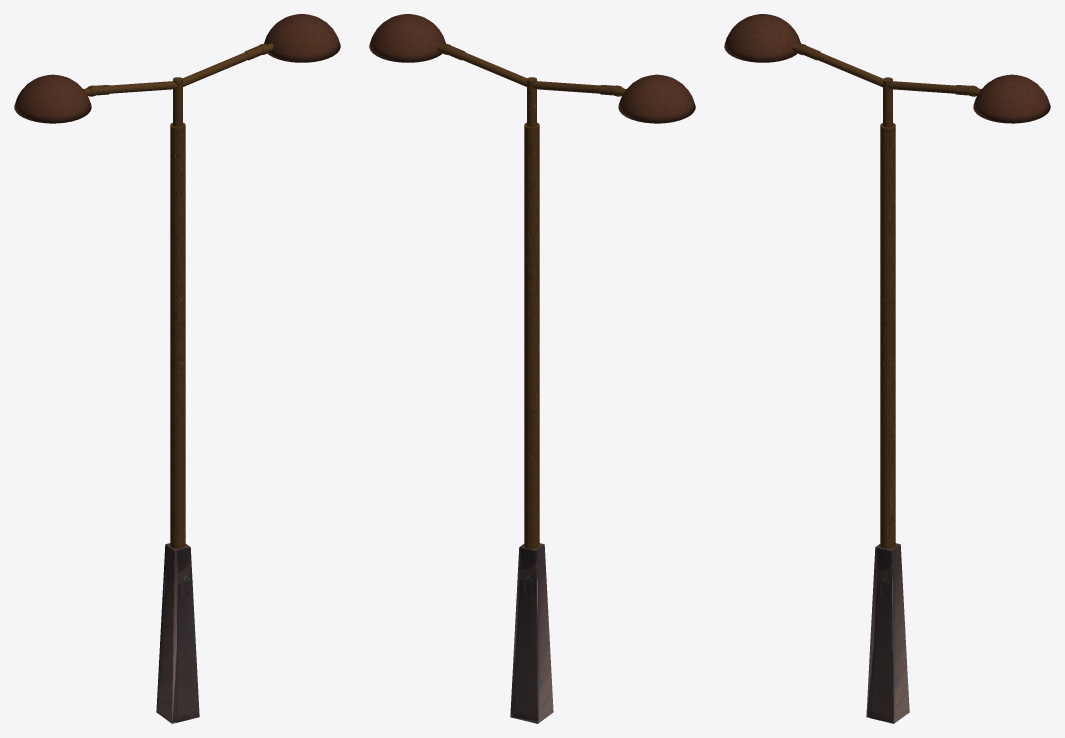
File: Farola_1.fbx
The picture shows the model from 3 angles, left to right: view 1: azimuth 30°, elevation 25°; view 2: azimuth 150°, elevation 25°; view 3: azimuth 330°, elevation 25°; orthographic projection.
Parts seen in each view (by area): view 1: Farola_1; view 2: Farola_1; view 3: Farola_1.
Part boxes in pixels (x1,y1,x2,y2): Farola_1: [14, 14, 340, 723]; Farola_1: [369, 14, 695, 723]; Farola_1: [724, 14, 1050, 723].
Size of the model in its own units: 196 by 394 by 41.52.
Materials: 4 (4 with a texture image).
